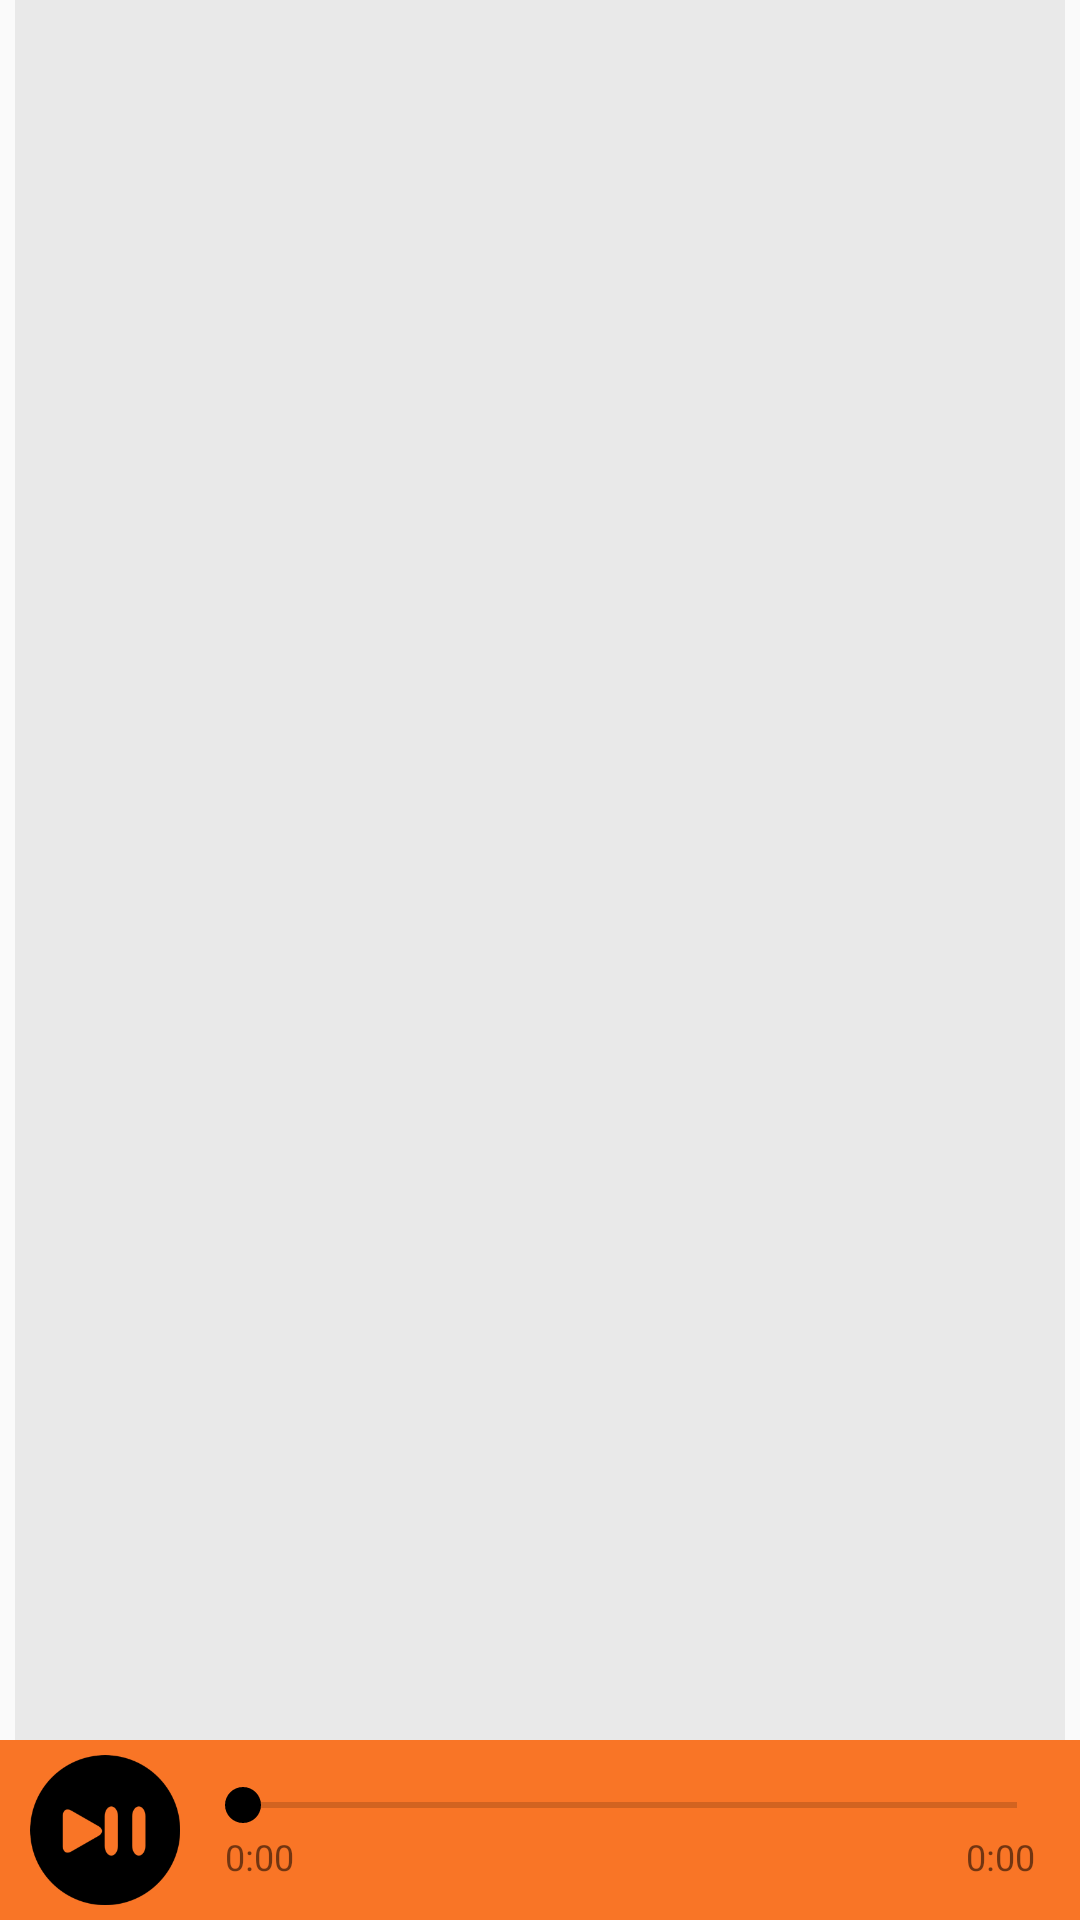

Screen size 1080 x 1920. Icon name, then its box in pixels as [x1=x1, y1=y1, x2=x2, y2=y2]:
play pause: [x1=30, y1=1755, x2=180, y2=1905]
